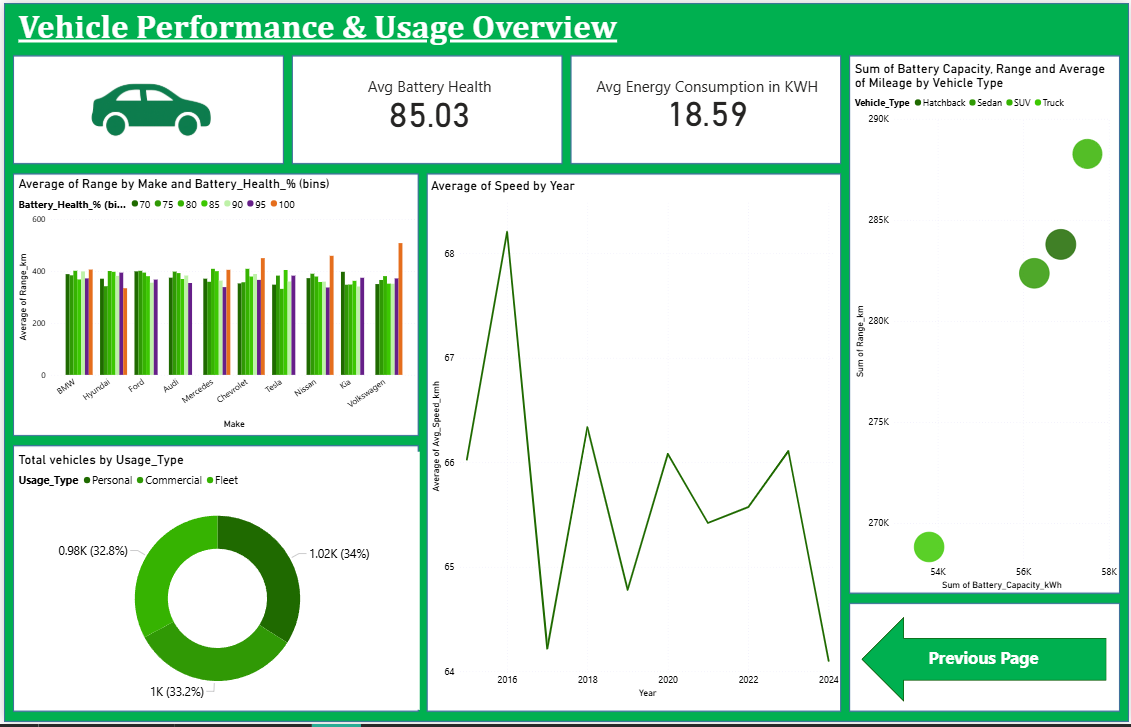

Layout of this report page (visuals, bound fields, positions):
{"tool":"powerbi","page":{"name":"Dashboard 2","canvas":[1800,1150],"ordinal":1},"visuals":[{"type":"shape","box":[1371.2,982,392,136],"z":0},{"type":"textbox","box":[1474,1024,232,54],"z":1000},{"type":"textbox","box":[18,0,1108,92],"z":2000},{"type":"clusteredColumnChart","title":"Average of Range by Make and Battery_Health_% (bins)","fields":{"Y":["Avg(electric_vehicle_analytics.Range_km)"],"Category":["electric_vehicle_analytics.Make"],"Series":["electric_vehicle_analytics.Battery_Health_% (bins)"]},"box":[17.5,275,647.5,410],"z":3000},{"type":"lineChart","title":"Average of Speed by Year","fields":{"Category":["electric_vehicle_analytics.Year"],"Y":["Avg(electric_vehicle_analytics.Avg_Speed_kmh)"]},"box":[677.5,280,662.5,837.5],"z":4000},{"type":"donutChart","title":"Total vehicles by Usage_Type","fields":{"Category":["electric_vehicle_analytics.Usage_Type"],"Y":["CountNonNull(electric_vehicle_analytics.Vehicle_ID)"]},"box":[17.5,717.5,647.5,412.5],"z":5000},{"type":"image","box":[0,62.5,470,217.5],"z":6000},{"type":"card","fields":{"Values":["Avg(electric_vehicle_analytics.Battery_Health_%)"]},"box":[465,82.5,430,182.5],"z":7000},{"type":"textbox","box":[465,112.5,430,60],"z":9000},{"type":"card","fields":{"Values":["Avg(electric_vehicle_analytics.Energy_Consumption_kWh_per_100km)"]},"box":[910,80,430,182.5],"z":10000},{"type":"textbox","box":[910,112.5,430,62.5],"z":11000},{"type":"scatterChart","title":"Sum of Battery Capacity, Range and Average of Mileage by Vehicle Type","fields":{"Y":["Sum(electric_vehicle_analytics.Range_km)"],"X":["electric_vehicle_analytics.Battery_Capacity_kWh"],"Size":["Avg(electric_vehicle_analytics.Mileage_km)"],"Series":["electric_vehicle_analytics.Vehicle_Type"]},"box":[1355,92.5,430,852.5],"z":12000}]}

Visuals, with their boxes in screenshot pixels (x1, y1, x2, y2), scaled from the page's 1800x1150 canvas onto the 1131x727 screenshot:
shape: <bbox>862, 621, 1108, 707</bbox>
textbox: <bbox>926, 647, 1072, 681</bbox>
textbox: <bbox>11, 0, 708, 58</bbox>
"Average of Range by Make and Battery_Health_% (bins)" clusteredColumnChart: <bbox>11, 174, 418, 433</bbox>
"Average of Speed by Year" lineChart: <bbox>426, 177, 842, 706</bbox>
"Total vehicles by Usage_Type" donutChart: <bbox>11, 454, 418, 714</bbox>
image: <bbox>0, 40, 295, 177</bbox>
card - Avg(electric_vehicle_analytics.Battery_Health_%): <bbox>292, 52, 562, 168</bbox>
textbox: <bbox>292, 71, 562, 109</bbox>
card - Avg(electric_vehicle_analytics.Energy_Consumption_kWh_per_100km): <bbox>572, 51, 842, 166</bbox>
textbox: <bbox>572, 71, 842, 111</bbox>
"Sum of Battery Capacity, Range and Average of Mileage by Vehicle Type" scatterChart: <bbox>851, 58, 1122, 597</bbox>
